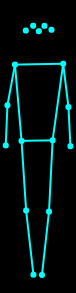mountain: (2, 20, 76, 280)
